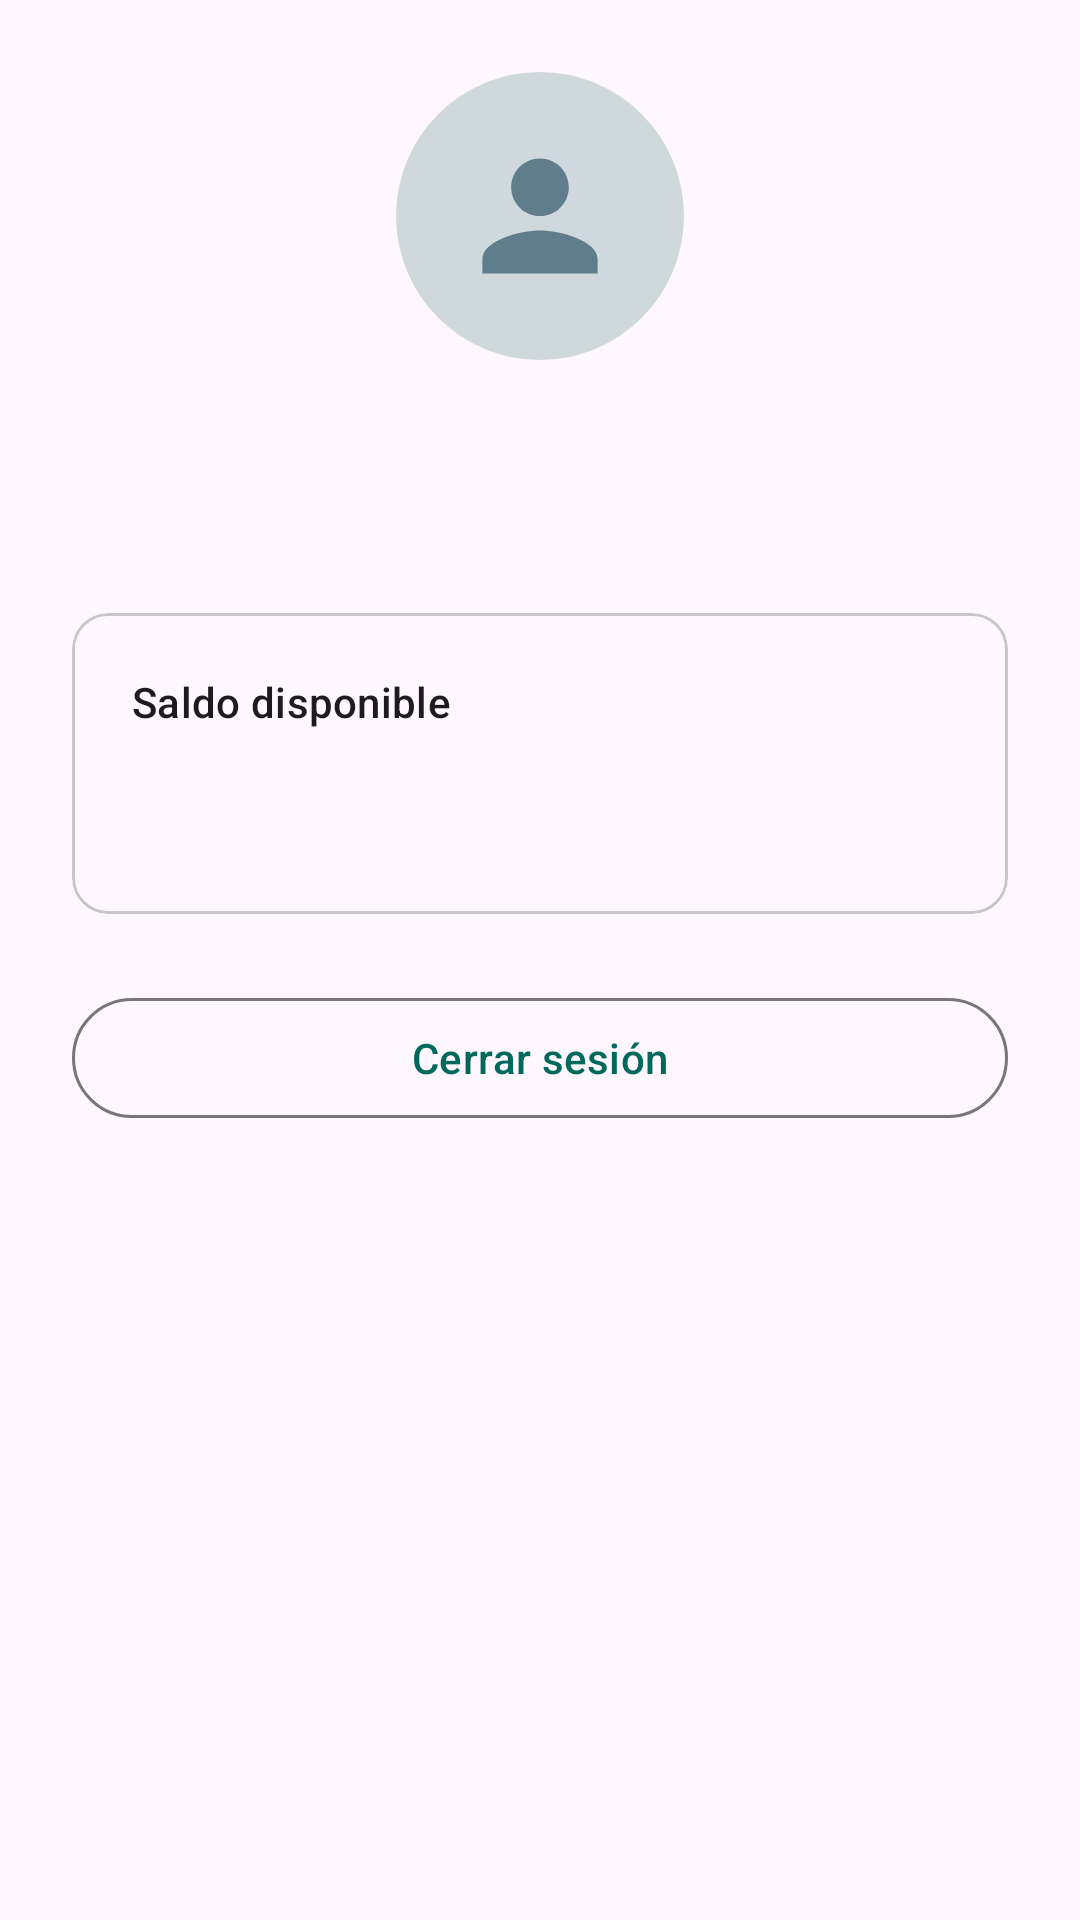

Icon bounding boxes for this 1080×1920 phone screenshot, format (x1, y1, x2, y2):
Foto de perfil: (396, 72, 684, 360)
